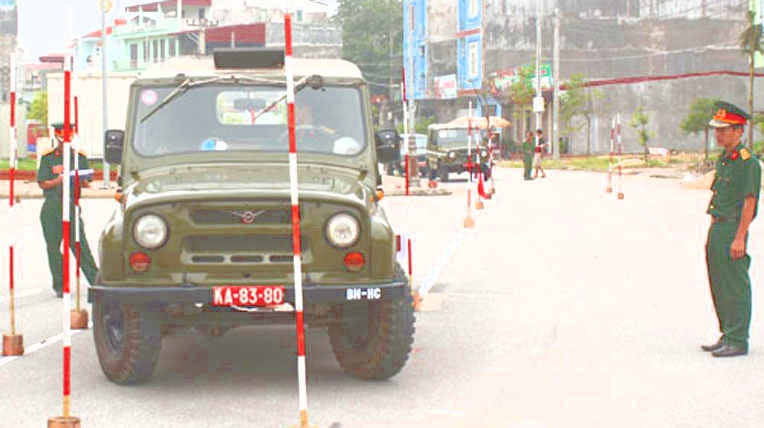plate: (209, 281, 287, 311)
